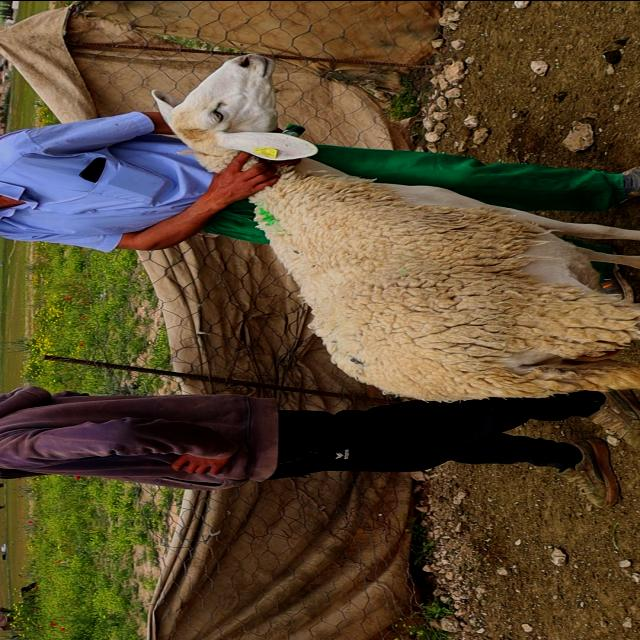Score_4: (152, 53, 639, 401)
